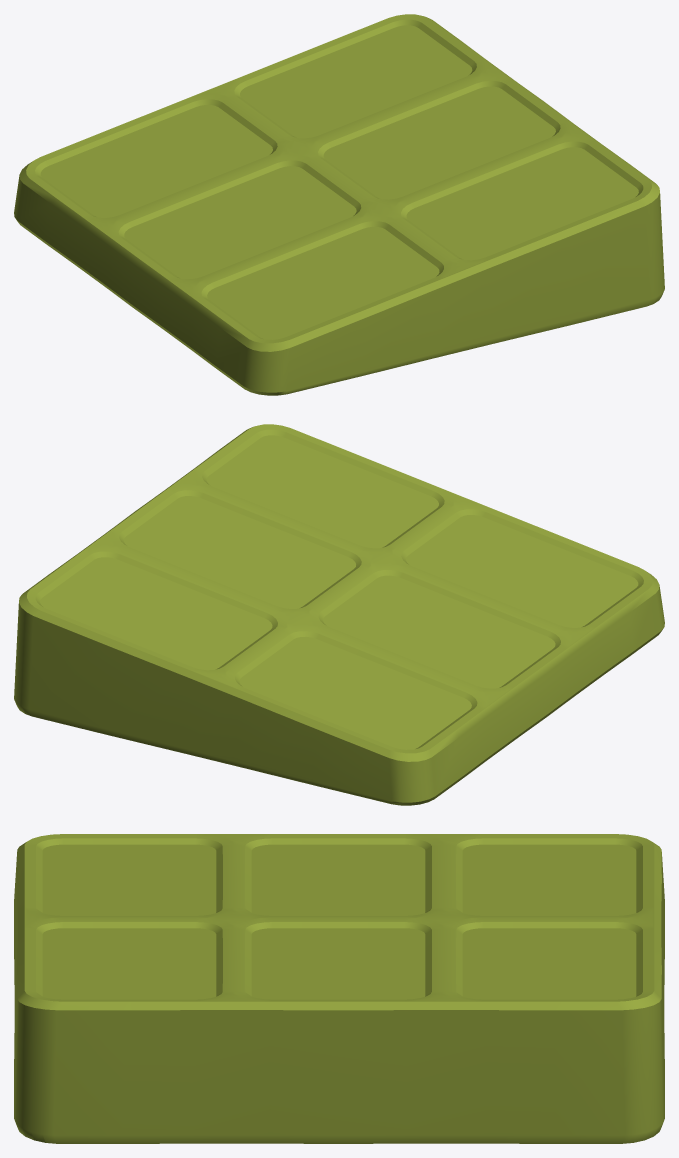
File: Tarot_Card_Machine.fbx
The picture shows the model from 3 angles, top to bottom: view 1: azimuth 30°, elevation 25°; view 2: azimuth 150°, elevation 25°; view 3: azimuth 270°, elevation 25°; orthographic projection. The views are drawn at different scales.
Parts seen in each view (by area): view 1: Tarot_Card_Machine; view 2: Tarot_Card_Machine; view 3: Tarot_Card_Machine.
Part boxes in pixels (x1,y1,x2,y2): Tarot_Card_Machine: (14, 14, 664, 395); Tarot_Card_Machine: (14, 424, 664, 805); Tarot_Card_Machine: (14, 834, 664, 1143).
Bounding box in the file's own units: 49.5 × 12.36 × 52.97.
